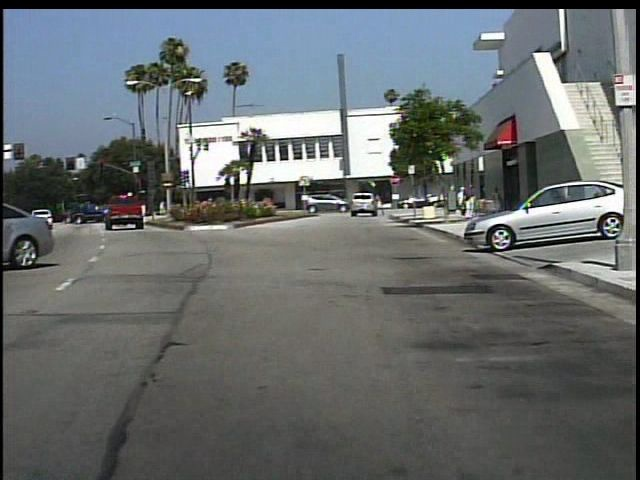person: (488, 185, 505, 218), (465, 183, 479, 223), (456, 185, 468, 218), (379, 192, 380, 221)
